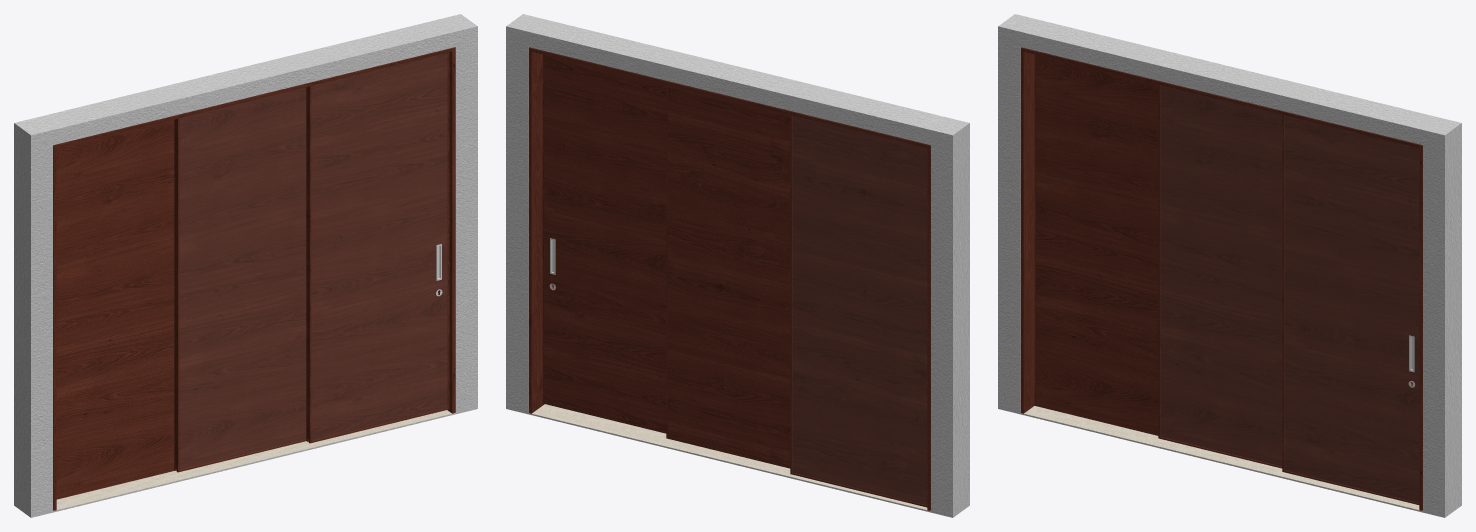
File: sliding_door_02.glb
3 views of the same model, side by side, from view 1: azimuth 30°, elevation 25°; view 2: azimuth 150°, elevation 25°; view 3: azimuth 330°, elevation 25° (orthographic).
Visible parts, largest first — view 1: Object_24, Object_14, Object_36, Object_26, Object_38, Object_46, Object_47, Object_42, Object_20, Object_32, Object_49, Object_40 (+1 smaller); view 2: Object_38, Object_12, Object_36, Object_24, Object_46, Object_42, Object_47, Object_44, Object_40, Object_8, Object_28, Object_16; view 3: Object_24, Object_14, Object_36, Object_38, Object_26, Object_46, Object_40, Object_47, Object_49, Object_42, Object_20, Object_32 (+1 smaller).
Boxes of the visible parts, x1,y1,x2,y2 form: Object_24: (311, 53, 447, 440); Object_14: (311, 53, 447, 440); Object_36: (179, 87, 306, 469); Object_26: (179, 88, 305, 469); Object_38: (56, 119, 174, 497); Object_46: (14, 14, 477, 517); Object_47: (53, 410, 451, 510); Object_42: (447, 47, 455, 413); Object_20: (306, 86, 311, 443); Object_32: (174, 118, 179, 472); Object_49: (56, 48, 452, 147); Object_40: (53, 144, 56, 510); Object_38: (792, 115, 927, 505); Object_12: (792, 115, 926, 505); Object_36: (668, 85, 790, 466); Object_24: (544, 55, 666, 431); Object_46: (506, 14, 969, 517); Object_42: (528, 47, 544, 413); Object_47: (532, 404, 930, 510); Object_44: (531, 48, 927, 147); Object_40: (927, 144, 930, 510); Object_8: (790, 115, 792, 474); Object_28: (666, 84, 667, 438); Object_16: (542, 54, 543, 403); Object_24: (1284, 115, 1419, 502); Object_14: (1284, 115, 1418, 502); Object_36: (1160, 85, 1282, 466); Object_38: (1036, 55, 1158, 434); Object_26: (1160, 85, 1281, 466); Object_46: (998, 14, 1461, 517); Object_40: (1020, 47, 1034, 413); Object_47: (1024, 406, 1422, 510); Object_49: (1023, 48, 1419, 147); Object_42: (1419, 144, 1422, 510); Object_20: (1282, 115, 1284, 471); Object_32: (1158, 84, 1160, 438).
Bounding box in the file's own units: 3.06 × 2.5 × 0.2.
5 materials, 3 textured.
